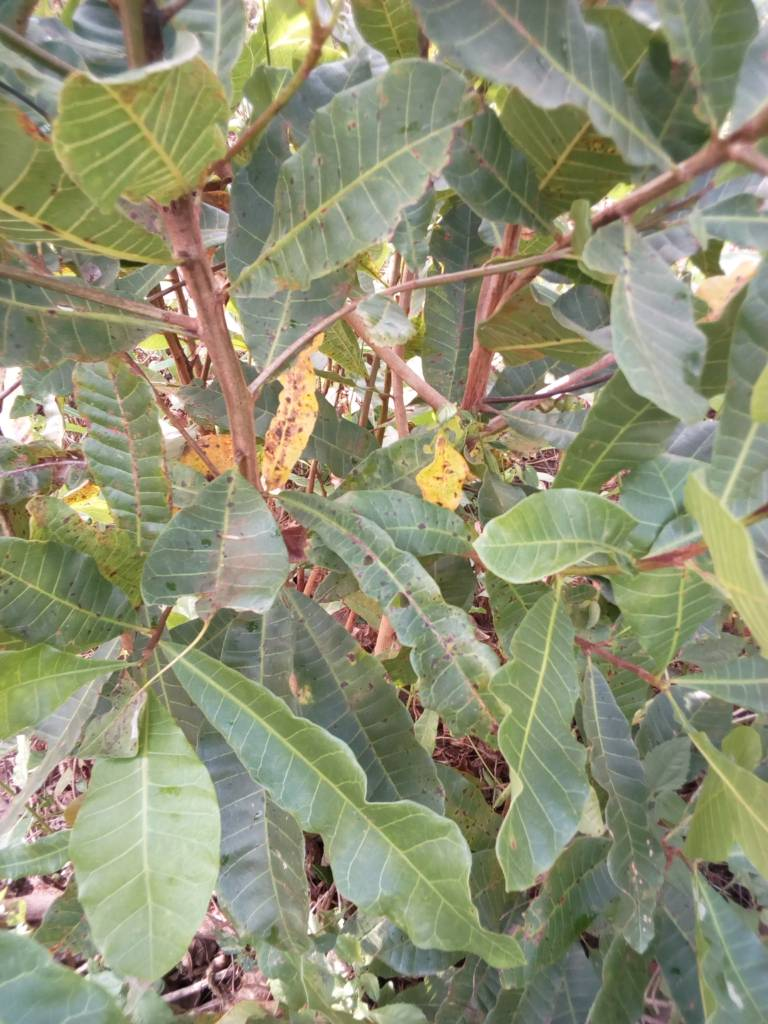Anthracnose: (1, 544, 152, 658), (261, 332, 332, 489)
